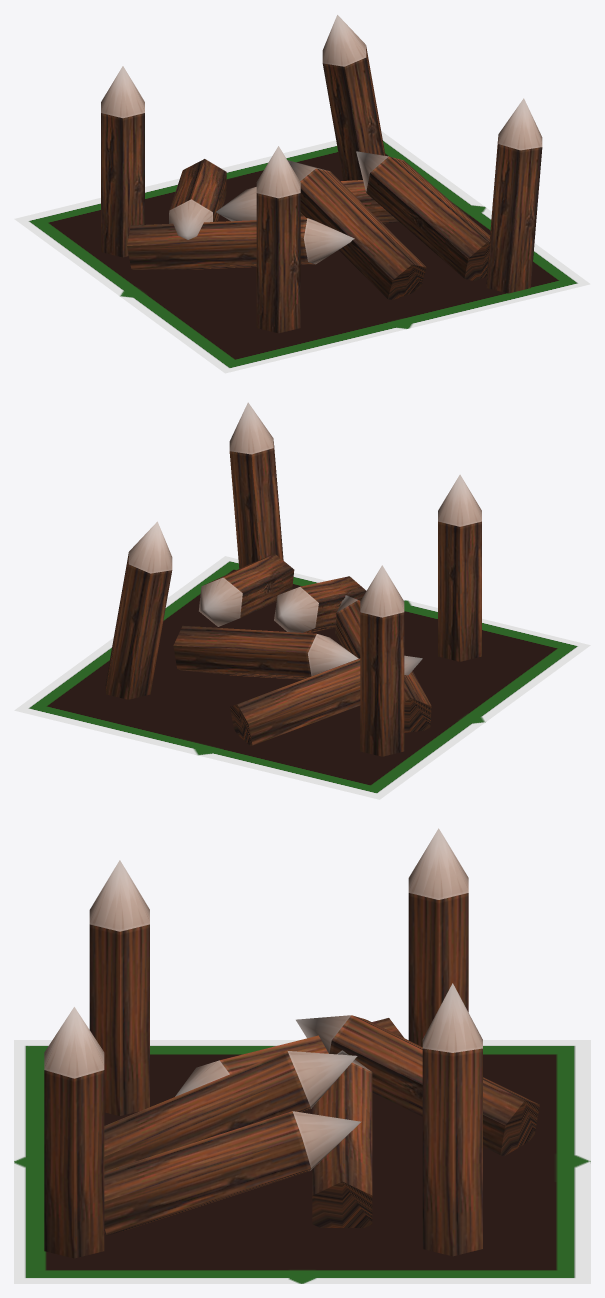
File: broken_house.fbx
3 views of the same model, one above another, from view 1: azimuth 30°, elevation 25°; view 2: azimuth 150°, elevation 25°; view 3: azimuth 270°, elevation 25° (orthographic). The views are drawn at different scales.
Visible parts, largest first — view 1: pCube14; view 2: pCube14; view 3: pCube14.
Part boxes in pixels (x1=…): pCube14: x1=14, y1=15, x2=590, y2=373; pCube14: x1=14, y1=402, x2=590, y2=799; pCube14: x1=14, y1=828, x2=590, y2=1283.
Size of the model in its own units: 12 by 6.02 by 12.
